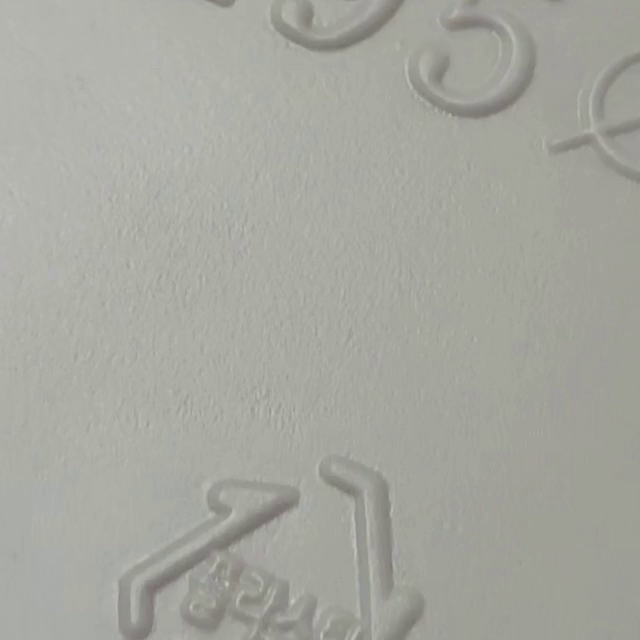Plastic: (112, 456, 423, 638)
